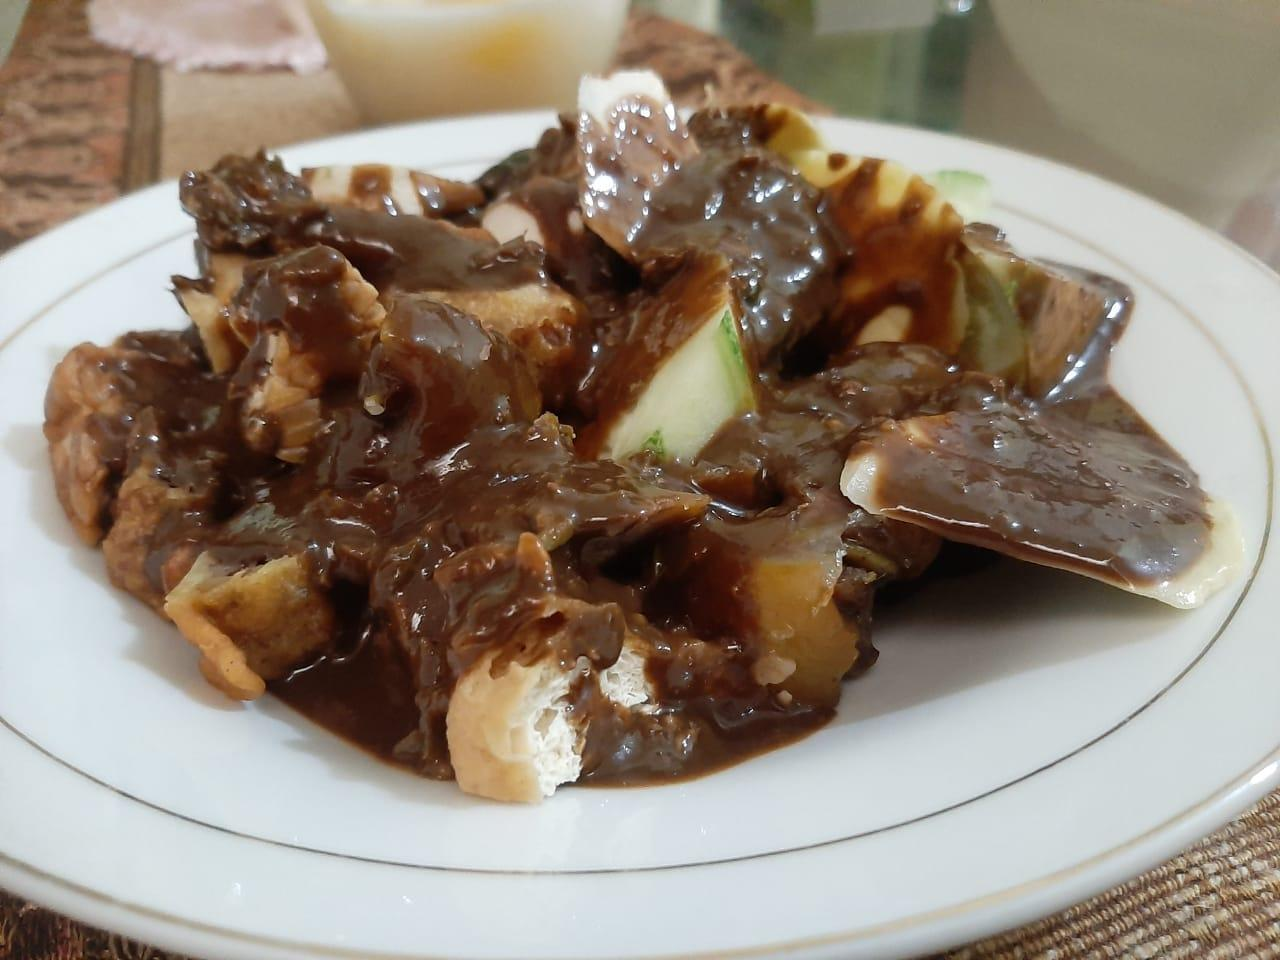rujak_cingur: (44, 70, 1244, 803)
